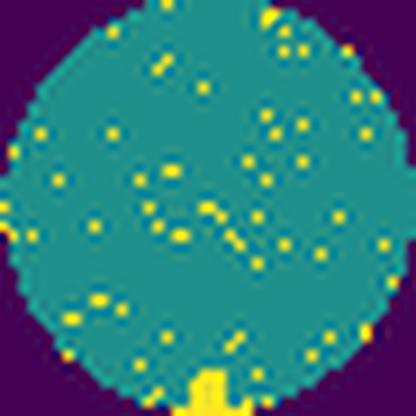Edge-Loc: (174, 360, 258, 416)
